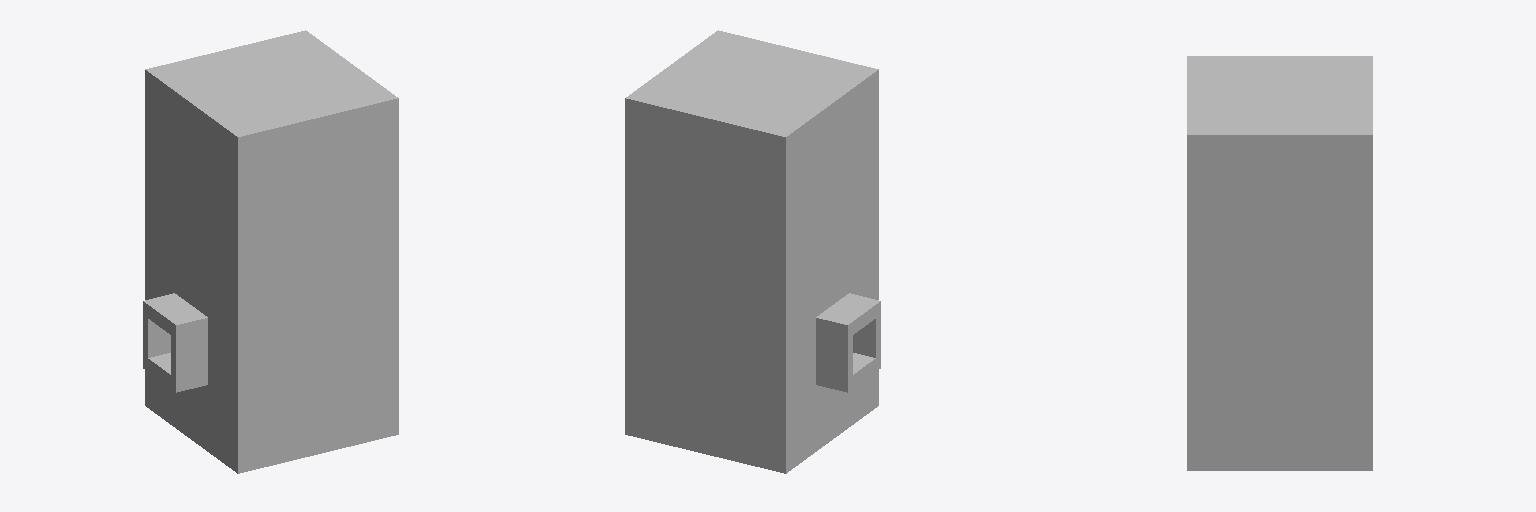
Rendered from Character_Tiki.obj.
3 views of the same model, side by side, from view 1: azimuth 30°, elevation 25°; view 2: azimuth 150°, elevation 25°; view 3: azimuth 270°, elevation 25° (orthographic).
Parts seen in each view (by area): view 1: Cube.001; view 2: Cube.001; view 3: Cube.001.
Boxes of the visible parts, x1=… form: Cube.001: x1=143, y1=30, x2=398, y2=473; Cube.001: x1=625, y1=30, x2=880, y2=473; Cube.001: x1=1187, y1=56, x2=1372, y2=470.
Size of the model in its own units: 1.2 by 2 by 1.